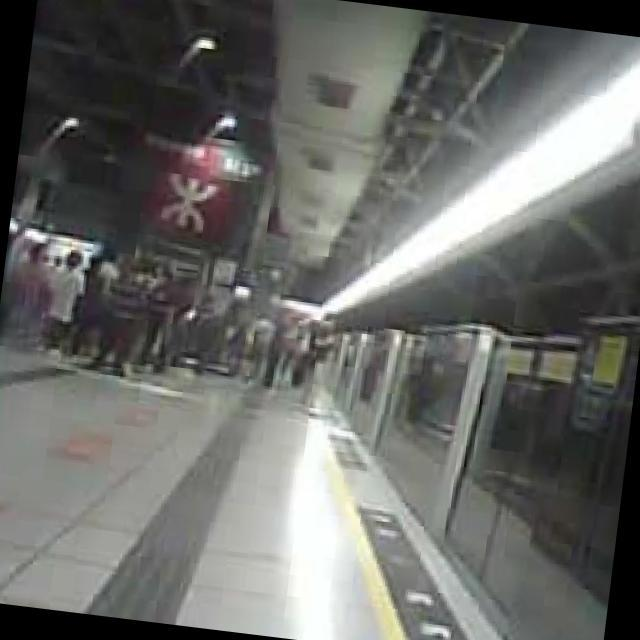person: (91, 256, 156, 380), (37, 246, 90, 358), (6, 238, 56, 349), (72, 251, 118, 364), (138, 270, 178, 368)
